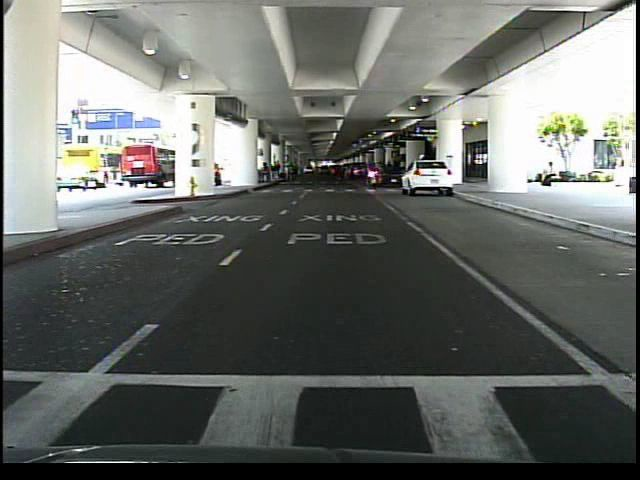person: (534, 155, 562, 192)
